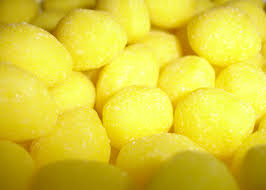Lemon: (39, 5, 132, 67), (171, 85, 245, 153), (185, 6, 266, 62), (105, 85, 173, 142)
